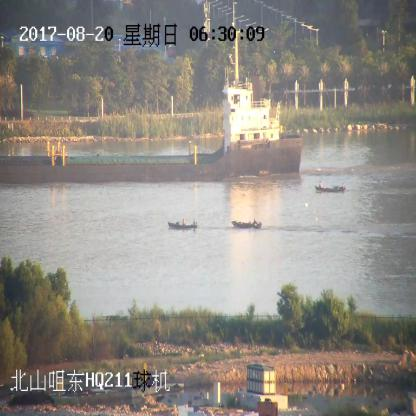Fishing Boat: (316, 182, 346, 195), (232, 219, 261, 231), (169, 220, 197, 231)
